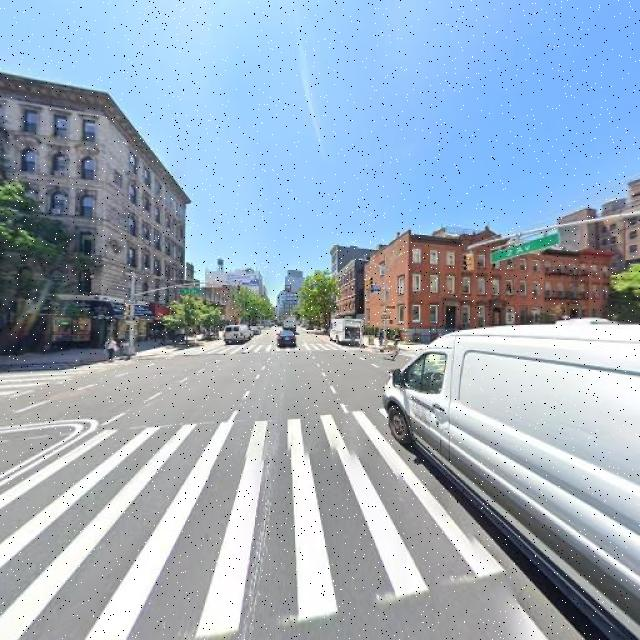Building: (1, 75, 185, 347), (364, 235, 459, 340)
